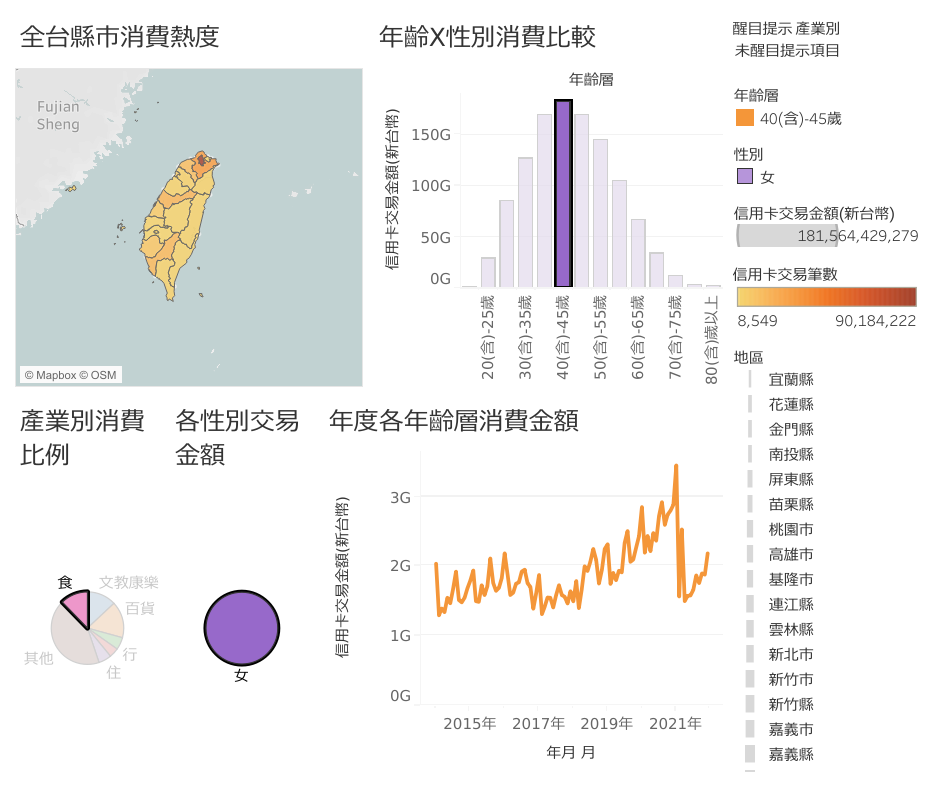

The dashboard page shown, as its layout file describes it:
{"tool":"tableau","page":{"name":"儀表板窗格 1","canvas":[1000,1000],"units":"permille","ordinal":0},"visuals":[{"type":"worksheet","title":"全台縣市消費熱度","mark":"Multipolygon","box":[4.8,9.4,446.9,490.6]},{"type":"worksheet","title":"年齡X性別消費比較","mark":"Automatic","rows":["信用卡交易金額(新台幣)"],"cols":["年齡層"],"box":[451.7,9.4,446.9,490.6]},{"type":"highlighter","title":"產業別消費比例","param":"[federated.0g2oetc1v2s88r16os5ns0wi0wuw].[none:產業別:nk]","box":[898.6,9.4,96.6,65.7]},{"type":"legend","title":"年度各年齡層消費金額","param":"[federated.0g2oetc1v2s88r16os5ns0wi0wuw].[none:年齡層:nk]","box":[898.6,75.1,96.6,342.7]},{"type":"legend","title":"年齡X性別消費比較","param":"[federated.0g2oetc1v2s88r16os5ns0wi0wuw].[none:性別:nk]","box":[898.6,417.8,96.6,84.5]},{"type":"worksheet","title":"產業別消費比例","mark":"Pie","box":[4.8,500,192.8,490.6]},{"type":"worksheet","title":"各性別交易金額","mark":"Pie","box":[197.6,500,192.2,490.6]},{"type":"worksheet","title":"年度各年齡層消費金額","mark":"Automatic","rows":["信用卡交易金額(新台幣)"],"cols":["年月"],"box":[389.8,500,508.8,490.6]},{"type":"legend","title":"各性別交易金額","param":"[federated.0g2oetc1v2s88r16os5ns0wi0wuw].[sum:信用卡交易金額(新台幣):qk]","box":[898.6,502.4,96.6,59.9]},{"type":"legend","title":"全台縣市消費熱度","param":"[federated.0g2oetc1v2s88r16os5ns0wi0wuw].[sum:信用卡交易金額(新台幣):qk]","box":[898.6,562.2,96.6,85.7]},{"type":"legend","title":"全台縣市消費熱度","param":"[federated.0g2oetc1v2s88r16os5ns0wi0wuw].[none:地區:nk]","box":[898.6,647.9,96.6,342.7]}]}

Visuals, with their boxes on the dashboard's canvas, which has no fixed pixel size, in thousandths of its width and height (x1, y1, x2, y2). These are canvas units, not pixel positions in the 936x785 screenshot, which may show the page scaled, cropped or inside an application window:
"全台縣市消費熱度" worksheet (Multipolygon marks): crop(5, 9, 452, 500)
"年齡X性別消費比較" worksheet: crop(452, 9, 899, 500)
"產業別消費比例" highlighter: crop(899, 9, 995, 75)
"年度各年齡層消費金額" legend: crop(899, 75, 995, 418)
"年齡X性別消費比較" legend: crop(899, 418, 995, 502)
"產業別消費比例" worksheet (Pie marks): crop(5, 500, 198, 991)
"各性別交易金額" worksheet (Pie marks): crop(198, 500, 390, 991)
"年度各年齡層消費金額" worksheet: crop(390, 500, 899, 991)
"各性別交易金額" legend: crop(899, 502, 995, 562)
"全台縣市消費熱度" legend: crop(899, 562, 995, 648)
"全台縣市消費熱度" legend: crop(899, 648, 995, 991)
